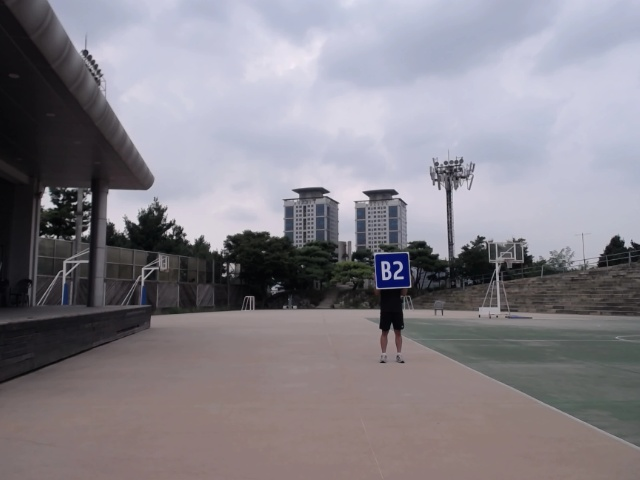delivery_b2: (373, 250, 413, 291)
